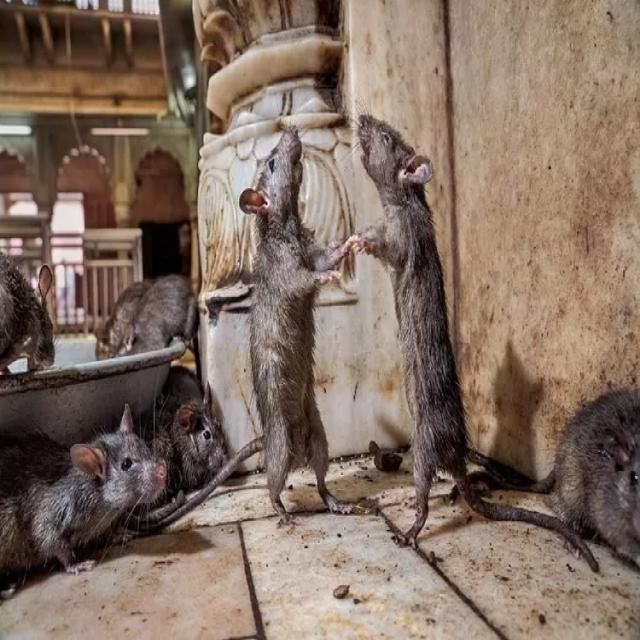rat: (344, 103, 474, 556), (248, 114, 355, 523), (10, 420, 171, 584), (544, 376, 640, 633), (0, 223, 63, 394), (89, 284, 151, 360)
